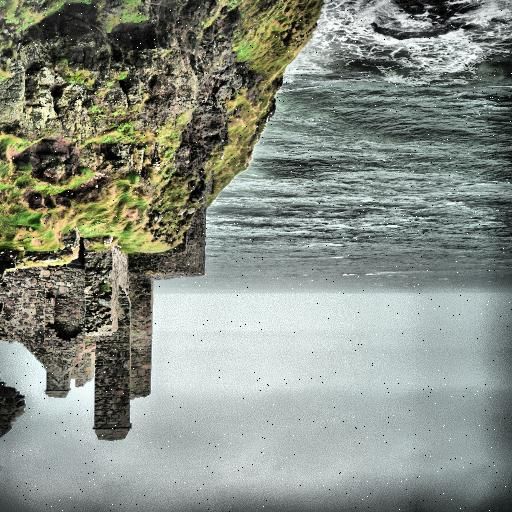person: (3, 186, 213, 452)
